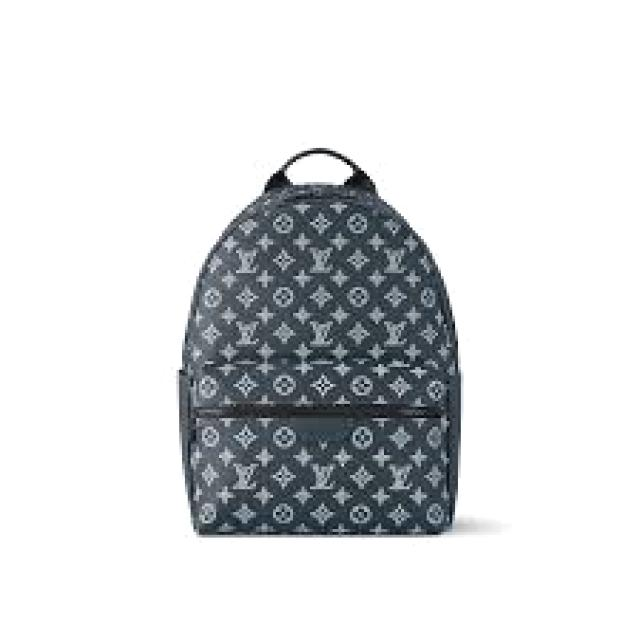backpack: (178, 146, 462, 536)
